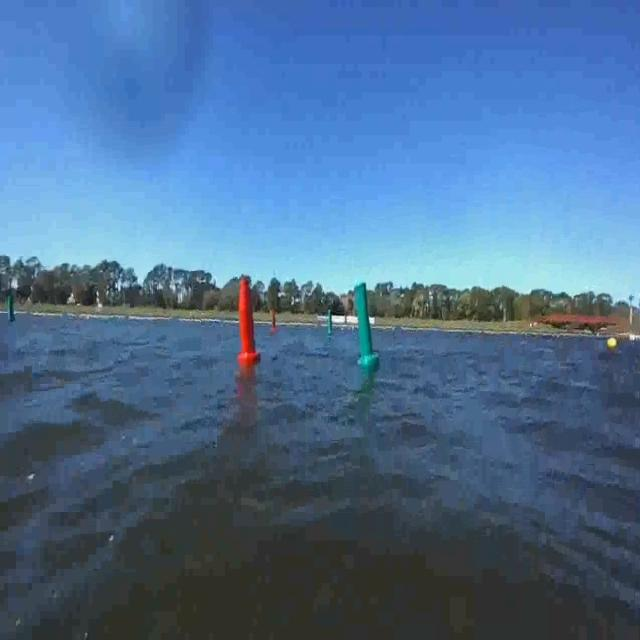green-column-buoy: (352, 278, 378, 368), (6, 295, 16, 322), (326, 311, 334, 336)
red-column-buoy: (238, 278, 260, 366), (271, 309, 279, 333)
yellow-buoy: (607, 336, 617, 352)
